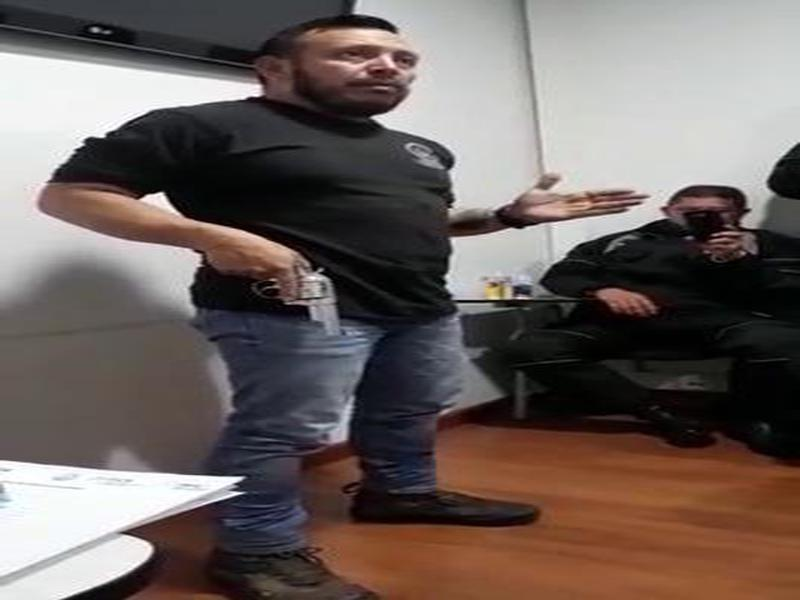Revolver: (234, 231, 367, 362)
